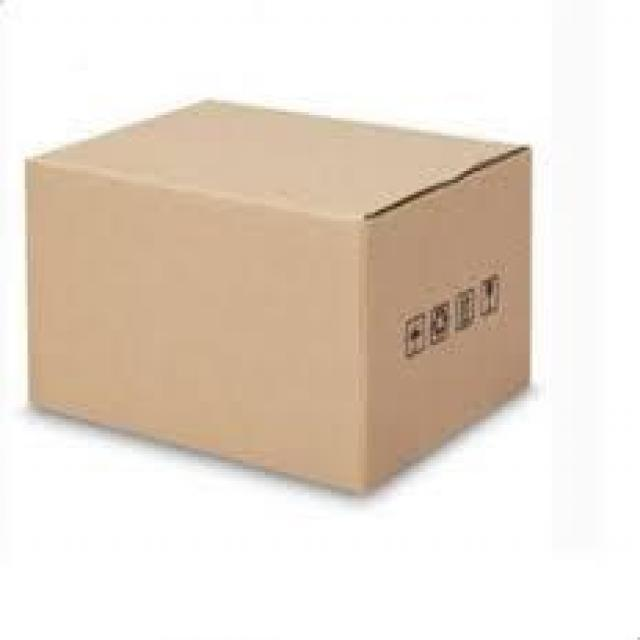box: (14, 91, 542, 490)
